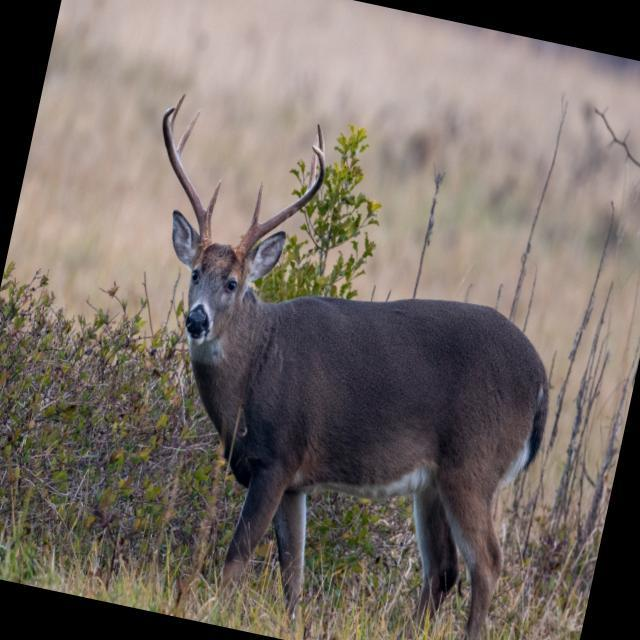L-F: (235, 143, 325, 258)
L-G1: (249, 181, 263, 228)
R-F: (162, 105, 210, 247)
R-G1: (205, 180, 221, 221)
R-G2: (176, 108, 200, 158)
